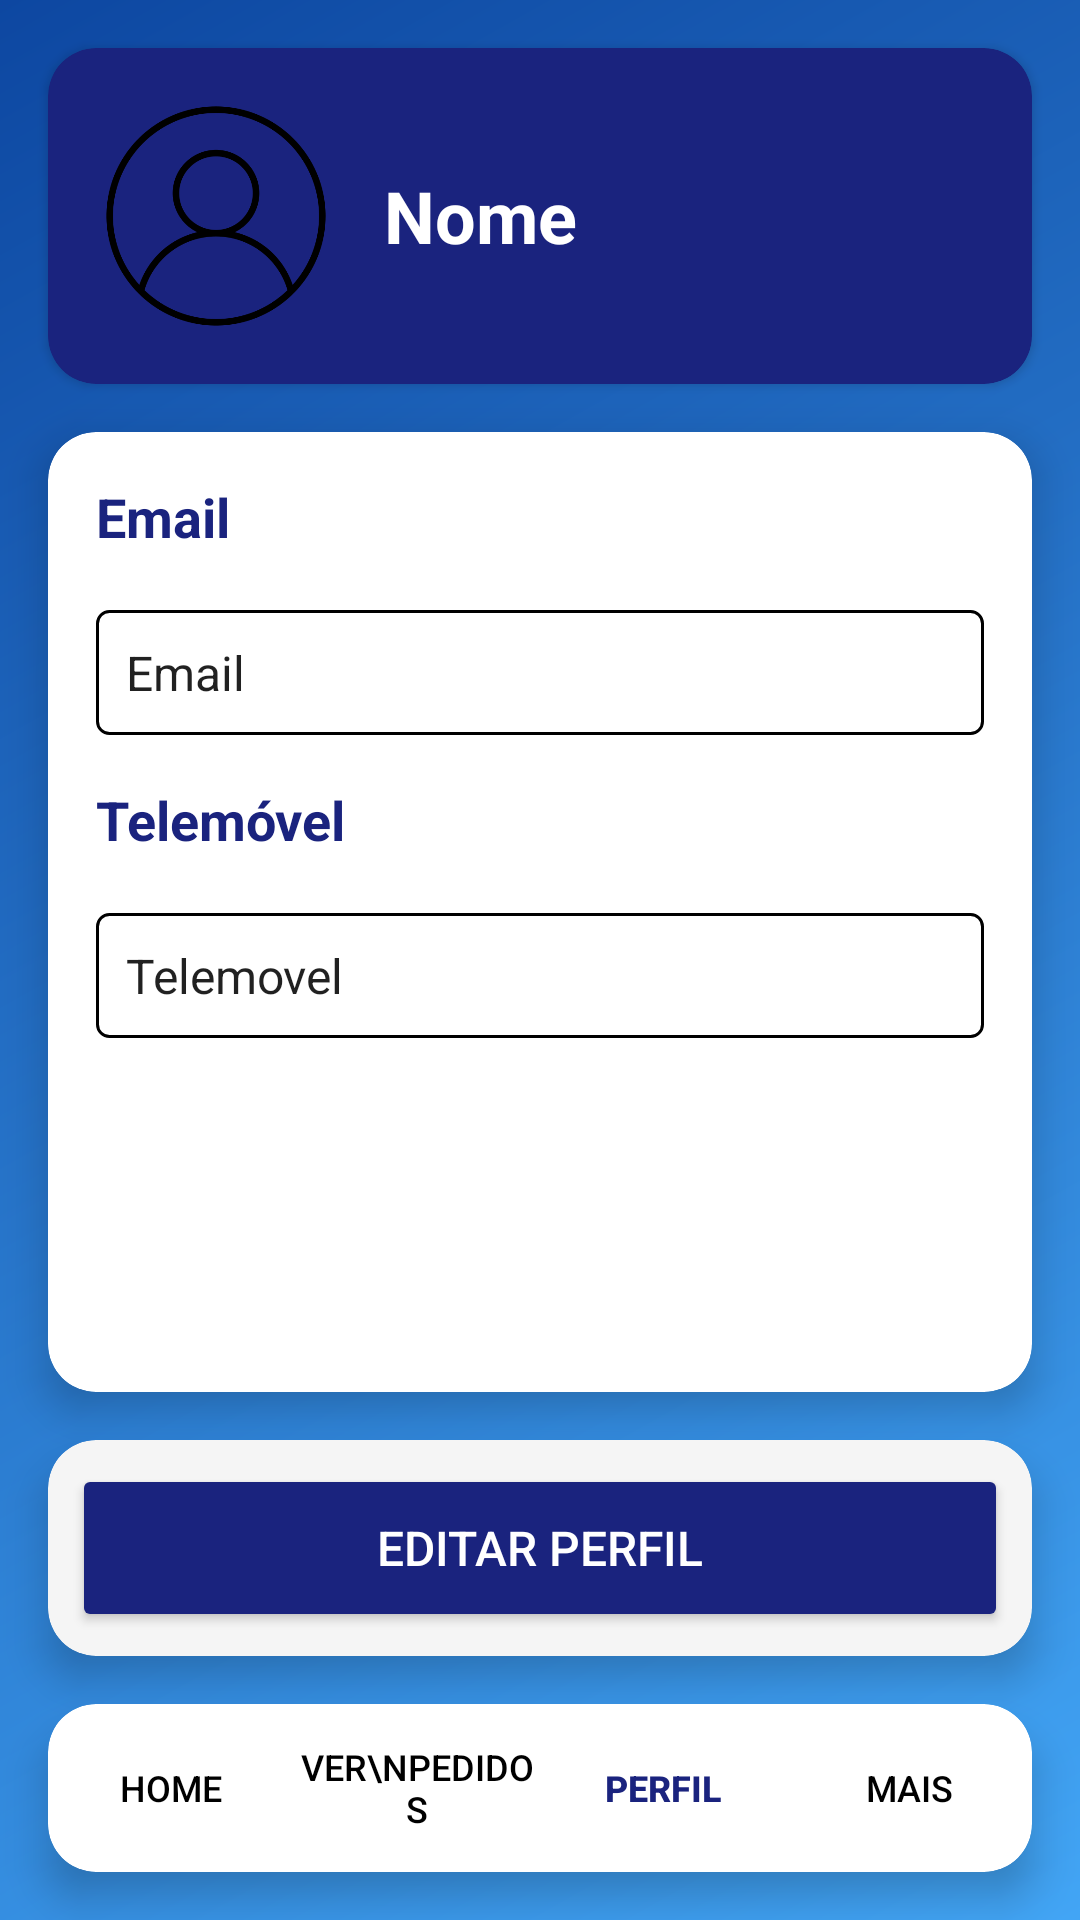

Where to tap for icons on this 1080*1920 app screen, as (x,y):
perfil: (216,216)
